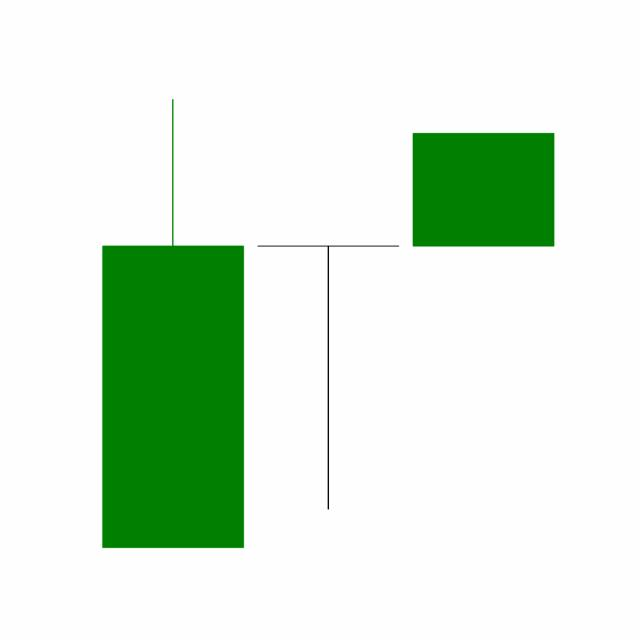Hammer: (249, 242, 406, 512)
